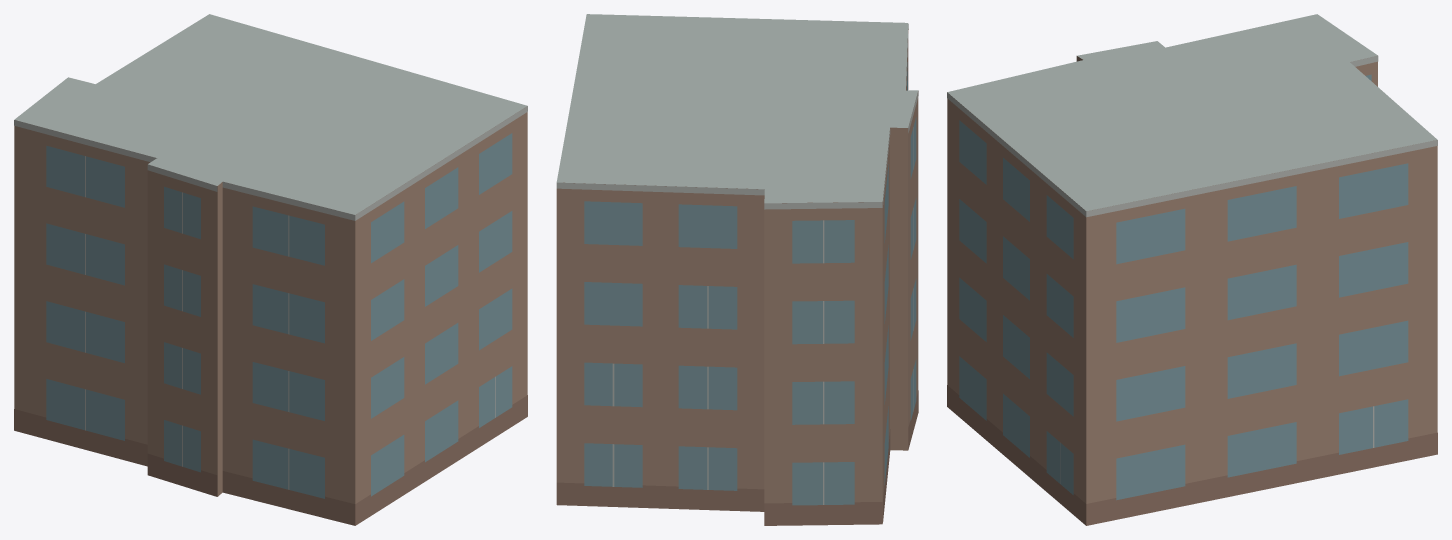
The model's file is survey-upis-32745512.glb.
3 renders of one model, left to right at view 1: azimuth 30°, elevation 25°; view 2: azimuth 150°, elevation 25°; view 3: azimuth 270°, elevation 25°, orthographic. The views are drawn at different scales.
Visible parts, largest first — view 1: survey-upis-32745512.tmp; view 2: survey-upis-32745512.tmp; view 3: survey-upis-32745512.tmp.
Part boxes in pixels (x1,y1,x2,y2): survey-upis-32745512.tmp: (14,14,527,525); survey-upis-32745512.tmp: (556,14,918,525); survey-upis-32745512.tmp: (947,14,1437,525).
Bounding box in the file's own units: 17.22 × 12.8 × 18.1.
